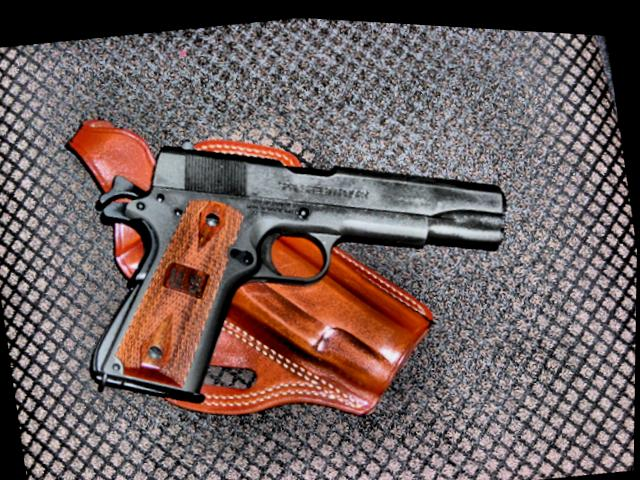pistol: (47, 80, 534, 427)
